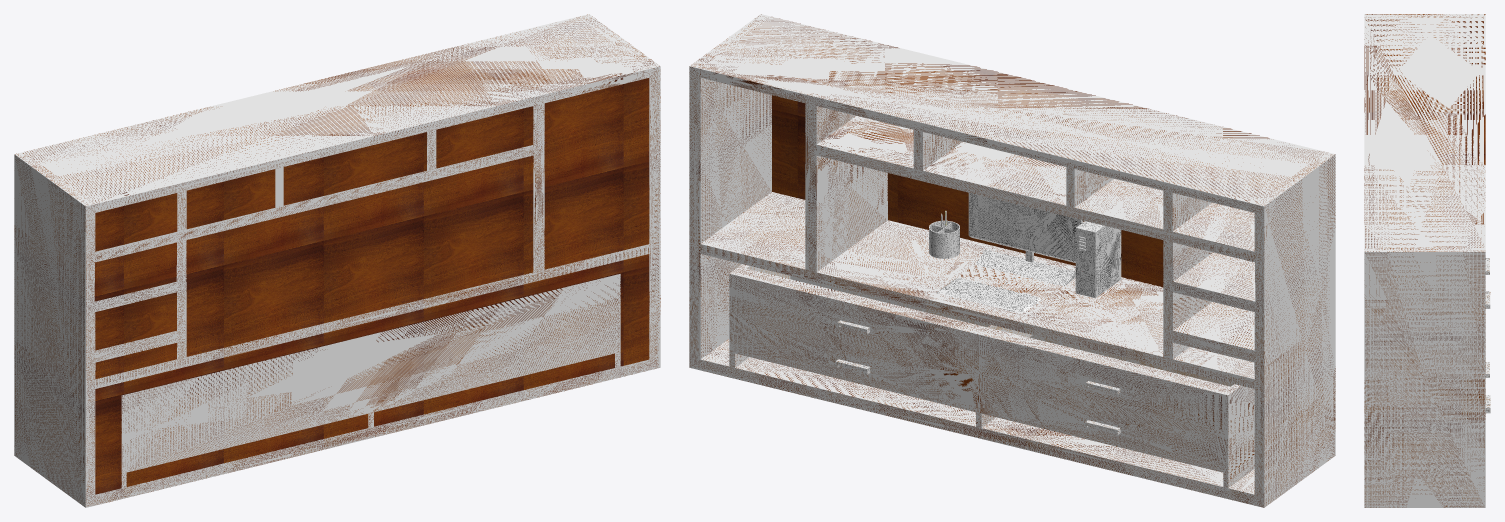
3 renders of one model, left to right at view 1: azimuth 30°, elevation 25°; view 2: azimuth 150°, elevation 25°; view 3: azimuth 270°, elevation 25°, orthographic. The views are drawn at different scales.
Visible parts, largest first — view 1: mesh10_mesh10-geometry; view 2: mesh10_mesh10-geometry; view 3: mesh10_mesh10-geometry.
Boxes of the visible parts, <box> form: mesh10_mesh10-geometry: <box>14,14,660,507</box>; mesh10_mesh10-geometry: <box>689,14,1335,507</box>; mesh10_mesh10-geometry: <box>1364,14,1490,507</box>.
Bounding box in the file's own units: 0.8766 × 0.4393 × 0.1964.
